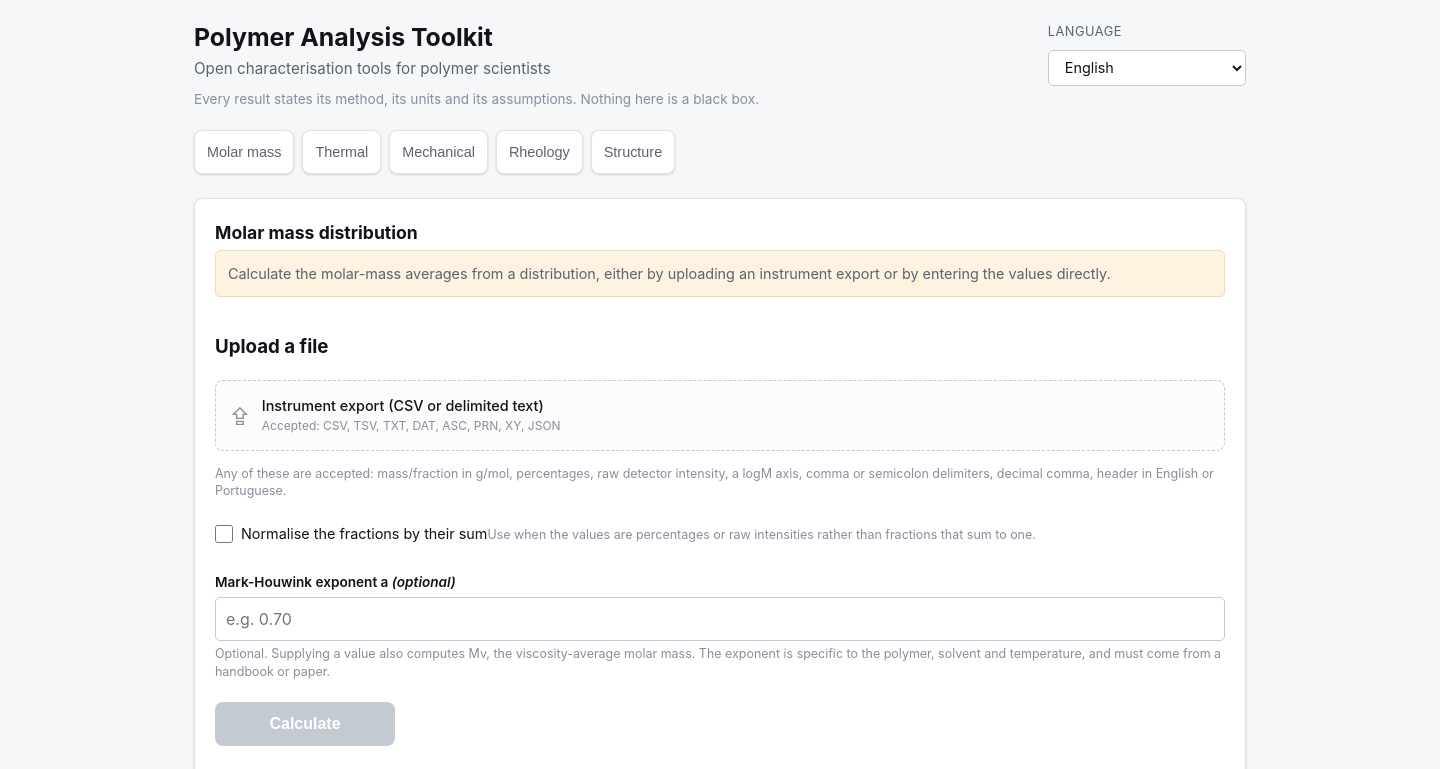
Scenario: reference enthalpy from the internal database › offers the polymers with their values
Click the button "Thermal".
click(342, 152)  # box [302,130,381,174]
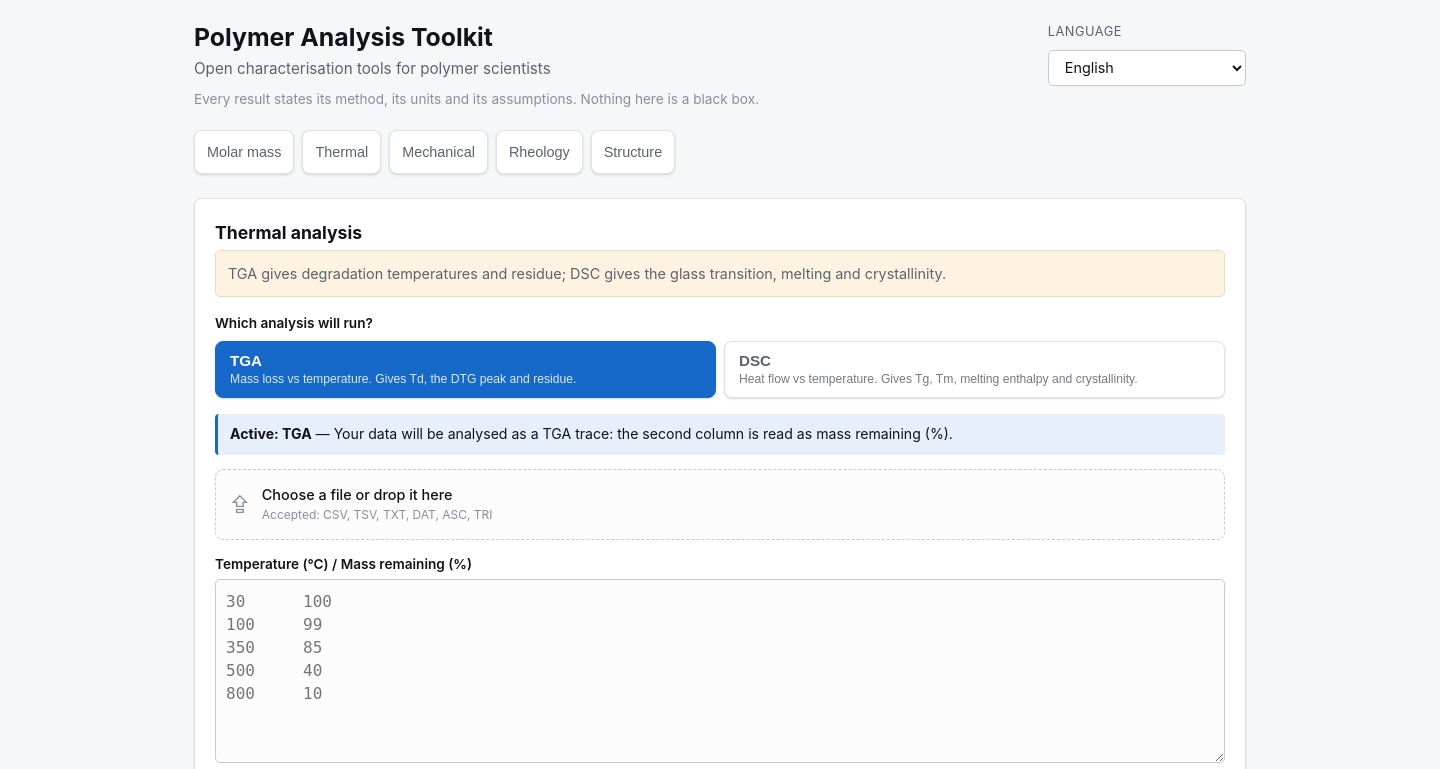
Click the tab "DSC".
click(974, 369)  # box [724,340,1225,398]
(page scrolled)
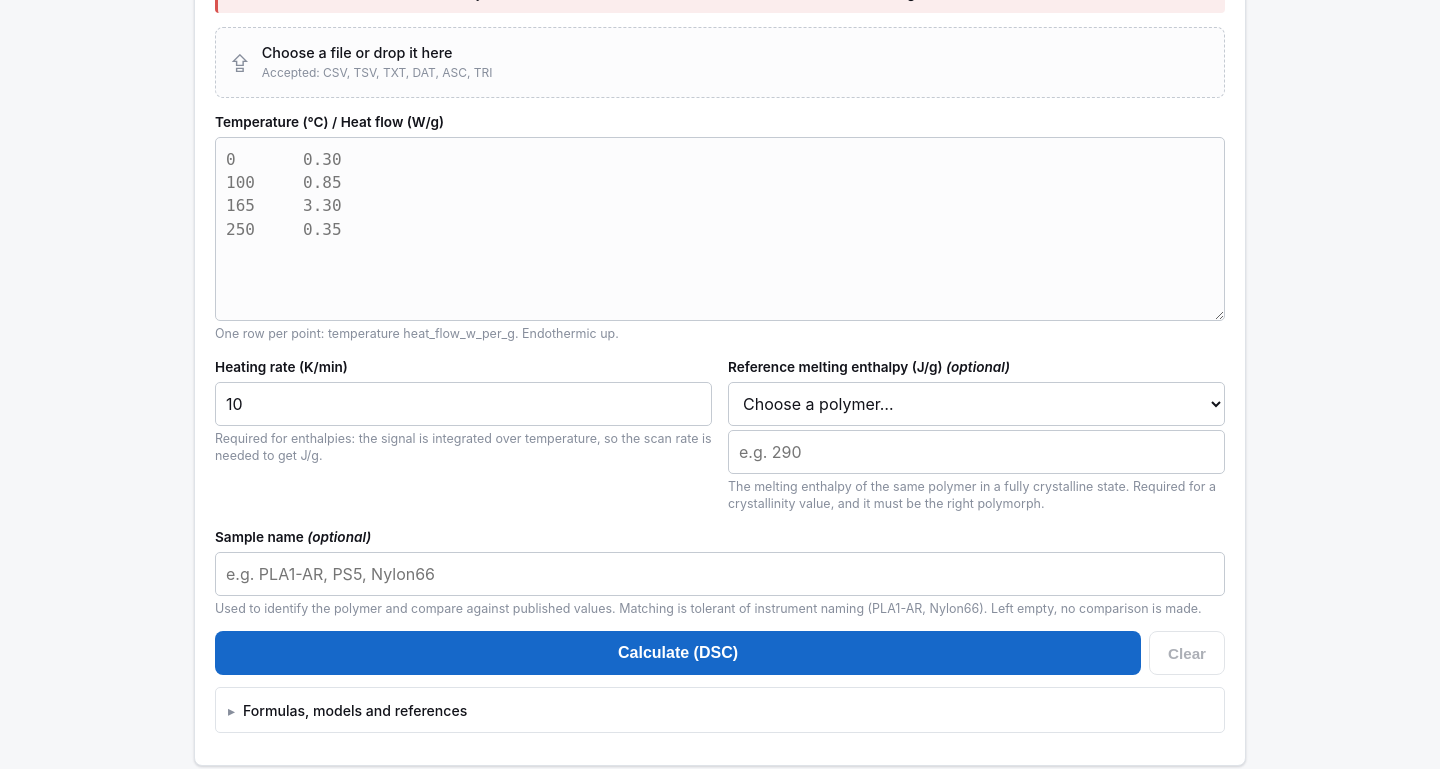
Expected: the label that starts with "Reference melting enthalpy (J/g)" is shown, [728,357,1225,513]
Expected: the dropdown is shown, [728,382,1225,426]
